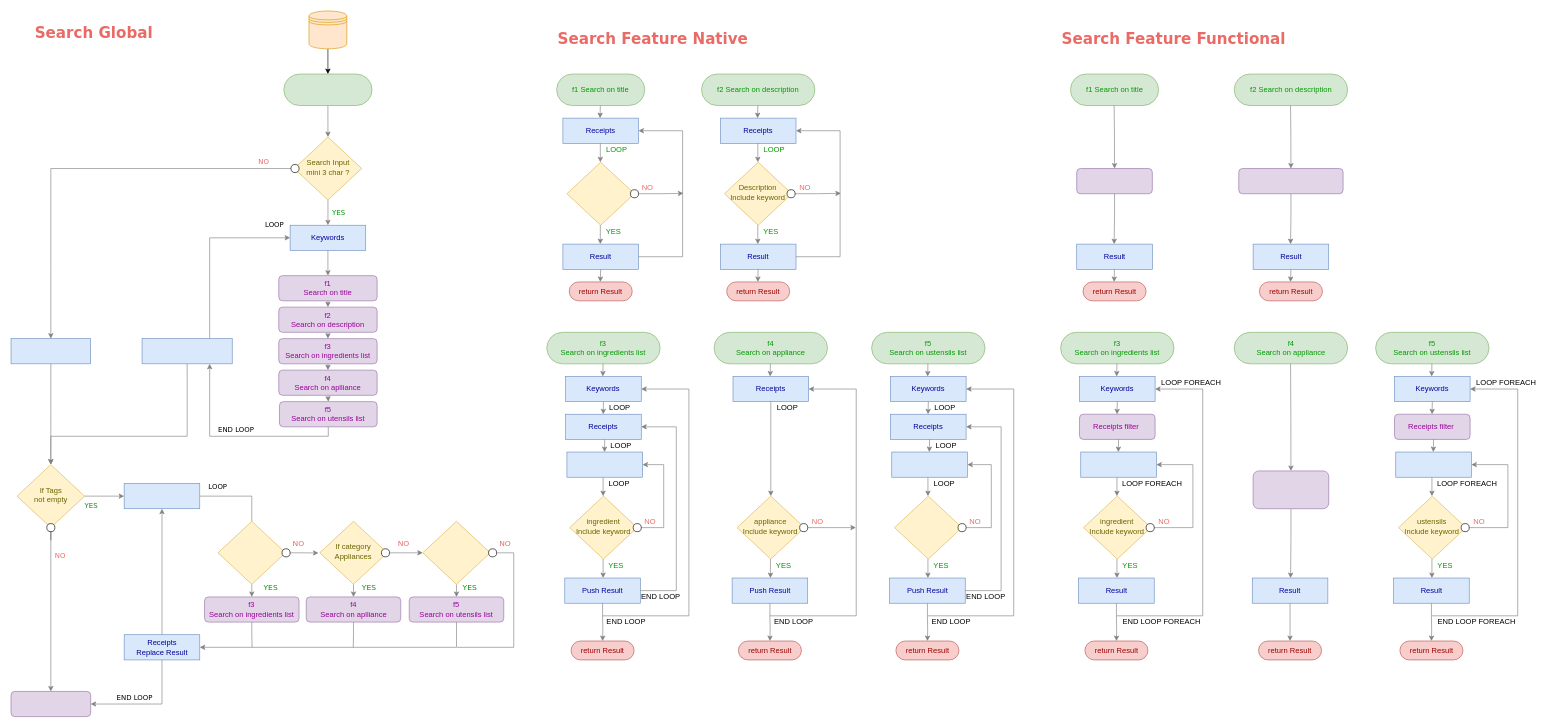
This 1552x728 diagram has some shape labels left out. The centre of each missing label's shape, as x and y in pixels:
"f6 Display Results" goes at point 50,704.
"If category Ingredients" goes at point 251,552.
"If category Ustensils" goes at point 456,552.
"ingredients" goes at point 1118,464.
"Receipt ingredients" goes at point 604,464.
"Receipt ustensils" goes at point 929,464.
"Receipts All" goes at point 50,351.
"Receipts concatenate" goes at point 186,351.
"Receipts filter Appliance include keyword" goes at point 1291,489.
"Receipts filter Description include keyword" goes at point 1290,181.
"Receipts filter Title include keyword" goes at point 1114,181.
"Search" goes at point 327,89.
"Tags" goes at point 162,496.
"Title Include keyword" goes at point 600,193.
"ustensil Include keyword" goes at point 928,527.
"ustensils" goes at point 1433,464.
